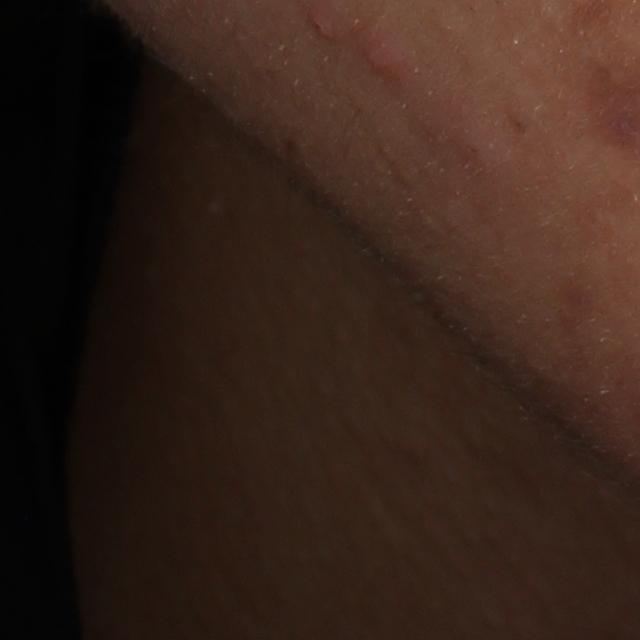papule: (362, 20, 405, 80), (305, 6, 339, 40)
